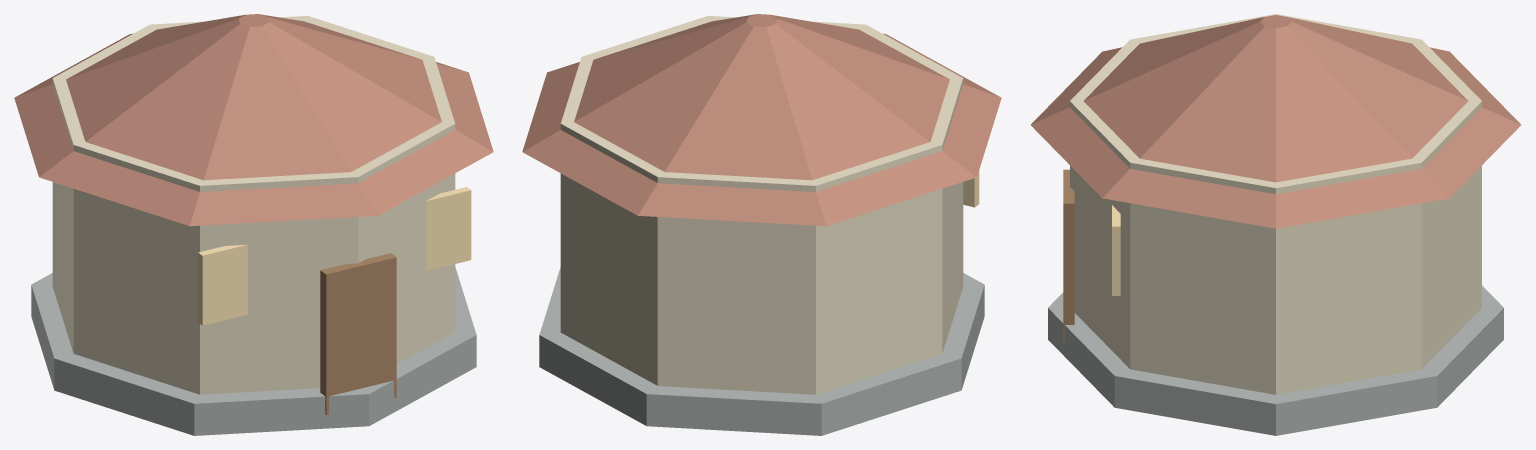
The model's file is keepers-cottage.glb.
3 renders of one model, left to right at view 1: azimuth 30°, elevation 25°; view 2: azimuth 150°, elevation 25°; view 3: azimuth 270°, elevation 25°, orthographic.
Visible parts, largest first — view 1: Octagonal roof, Octagonal cream walls, Octagonal stone base, Keeper door, Keeper window, Keeper window.001; view 2: Octagonal cream walls, Octagonal roof, Octagonal stone base, Keeper window; view 3: Octagonal cream walls, Octagonal roof, Octagonal stone base, Keeper door, Keeper window.001.
Boxes of the visible parts, x1=… form: Octagonal roof: x1=14, y1=14, x2=493, y2=226; Octagonal cream walls: x1=52, y1=16, x2=455, y2=394; Octagonal stone base: x1=31, y1=267, x2=476, y2=435; Keeper door: x1=320, y1=253, x2=396, y2=414; Keeper window: x1=198, y1=244, x2=247, y2=325; Keeper window.001: x1=426, y1=187, x2=471, y2=270; Octagonal cream walls: x1=560, y1=16, x2=963, y2=394; Octagonal roof: x1=522, y1=14, x2=1001, y2=226; Octagonal stone base: x1=539, y1=267, x2=984, y2=435; Keeper window: x1=963, y1=170, x2=979, y2=207; Octagonal cream walls: x1=1070, y1=14, x2=1481, y2=394; Octagonal roof: x1=1031, y1=15, x2=1520, y2=228; Octagonal stone base: x1=1048, y1=285, x2=1503, y2=435; Keeper door: x1=1063, y1=169, x2=1074, y2=342; Keeper window.001: x1=1112, y1=205, x2=1120, y2=295.
Bounding box in the file's own units: 5.6 × 4 × 5.6.
